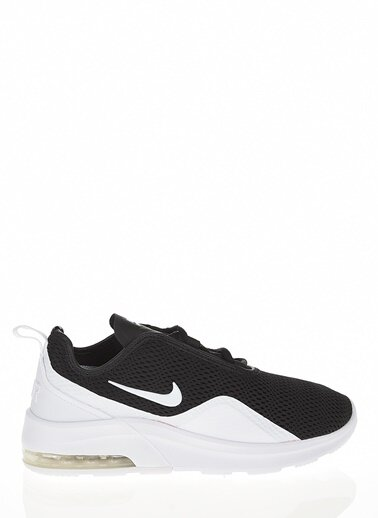nike: (103, 375, 183, 409)
